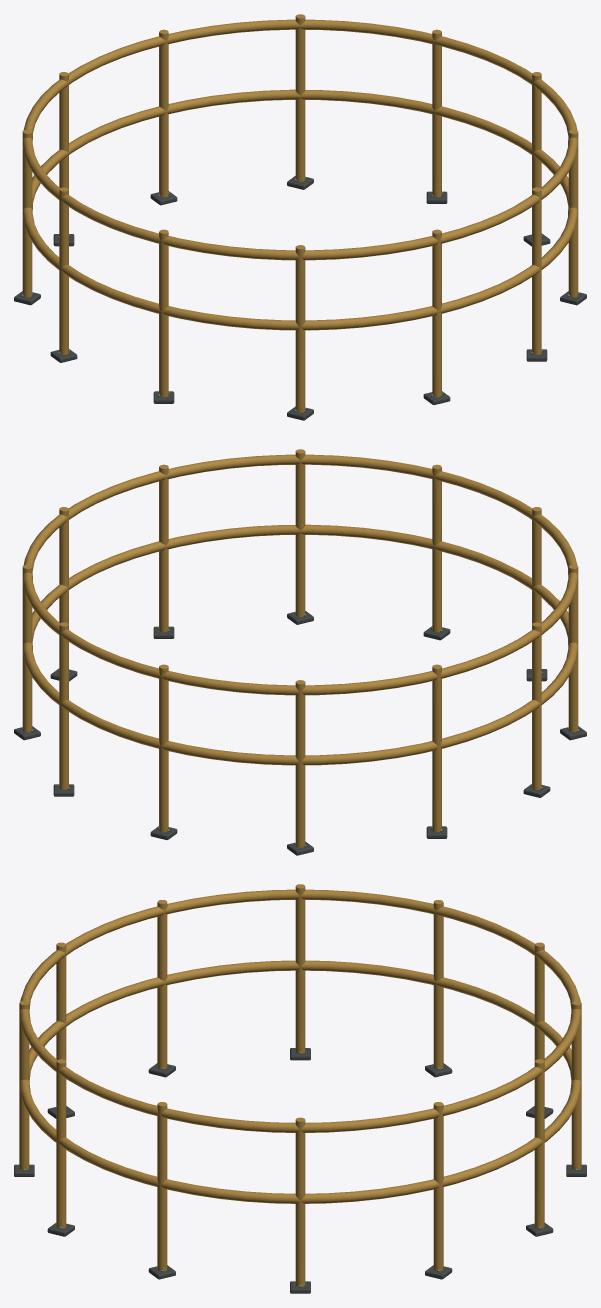
File: CORE_Guardrail.fbx
3 renders of one model, top to bottom at view 1: azimuth 30°, elevation 25°; view 2: azimuth 150°, elevation 25°; view 3: azimuth 270°, elevation 25°, orthographic.
Visible parts, largest first — view 1: CORE_Guardrail_EXPORT; view 2: CORE_Guardrail_EXPORT; view 3: CORE_Guardrail_EXPORT.
Part boxes in pixels (x1,y1,x2,y2): CORE_Guardrail_EXPORT: [14, 14, 586, 420]; CORE_Guardrail_EXPORT: [14, 449, 586, 855]; CORE_Guardrail_EXPORT: [14, 884, 586, 1293].
Bounding box in the file's own units: 2.9 × 0.9525 × 2.9.
